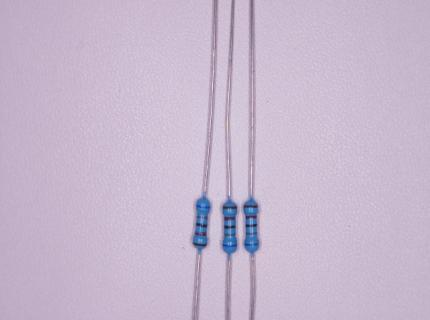Black band: (196, 222, 207, 228), (224, 225, 236, 229), (246, 224, 258, 228)
Blue band: (196, 205, 210, 209), (222, 244, 237, 247), (244, 243, 259, 246)
Brown band: (193, 242, 207, 247), (243, 205, 258, 209), (222, 206, 237, 209)
Grey band: (246, 232, 258, 236), (196, 216, 208, 219), (224, 233, 235, 236)
Red band: (194, 231, 207, 236), (224, 216, 236, 221), (245, 215, 257, 219)
